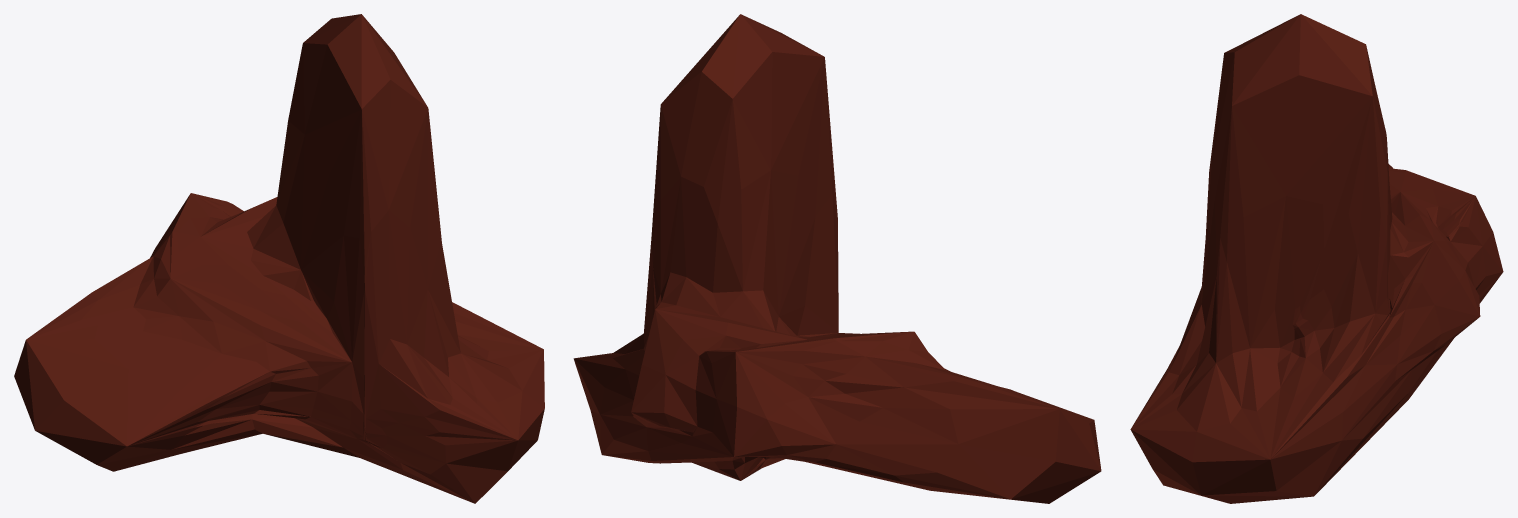
The picture shows the model from 3 angles, left to right: view 1: azimuth 30°, elevation 25°; view 2: azimuth 150°, elevation 25°; view 3: azimuth 270°, elevation 25°; orthographic projection. The views are drawn at different scales.
Parts seen in each view (by area): view 1: 802_Cube.3231; view 2: 802_Cube.3231; view 3: 802_Cube.3231.
Part boxes in pixels (box(x1,y1,x2,y2)): 802_Cube.3231: box(14, 14, 544, 503); 802_Cube.3231: box(573, 14, 1101, 503); 802_Cube.3231: box(1130, 14, 1503, 503).
Size of the model in its own units: 16.15 by 14.06 by 10.57.
